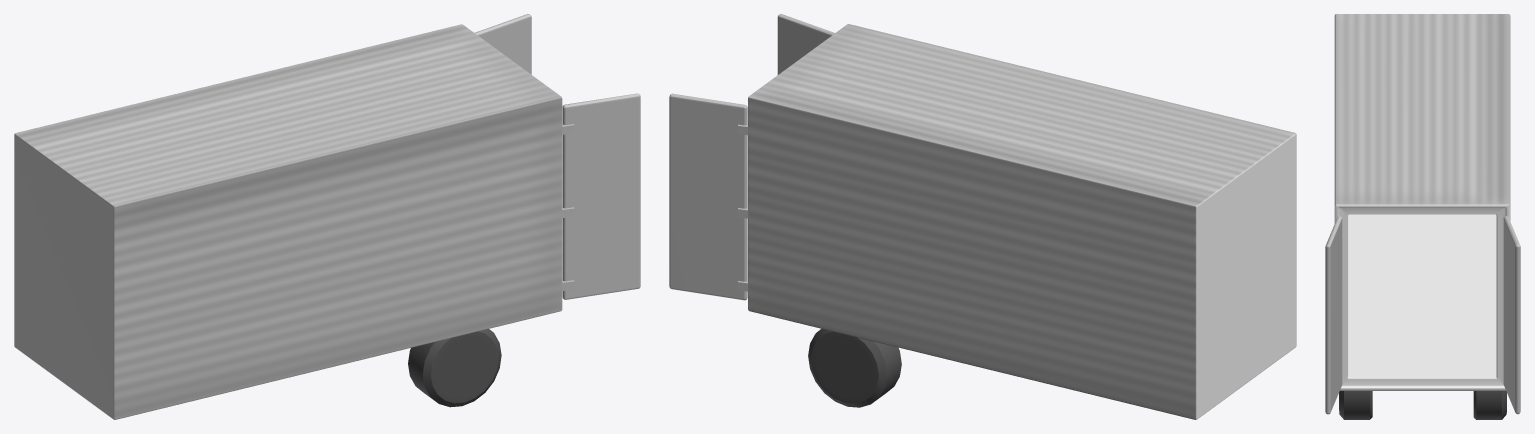
The model's file is truck.fbx.
3 views of the same model, side by side, from view 1: azimuth 30°, elevation 25°; view 2: azimuth 150°, elevation 25°; view 3: azimuth 270°, elevation 25° (orthographic). The views are drawn at different scales.
Visible parts, largest first — view 1: pCube2, polySurface10, pCylinder6, polySurface11; view 2: pCube2, polySurface11, pCylinder5, polySurface10; view 3: pCube2, polySurface10, polySurface11, pCylinder5, pCylinder6.
Part boxes in pixels (bbox=[...]): pCube2: bbox=[14, 24, 562, 419]; polySurface10: bbox=[562, 93, 640, 299]; pCylinder6: bbox=[408, 329, 501, 407]; polySurface11: bbox=[475, 14, 531, 74]; pCube2: bbox=[748, 24, 1296, 419]; polySurface11: bbox=[669, 93, 747, 300]; pCylinder5: bbox=[808, 329, 901, 407]; polySurface10: bbox=[777, 14, 834, 74]; pCube2: bbox=[1334, 14, 1510, 390]; polySurface10: bbox=[1325, 216, 1342, 414]; polySurface11: bbox=[1503, 216, 1520, 414]; pCylinder5: bbox=[1473, 391, 1506, 419]; pCylinder6: bbox=[1339, 391, 1372, 419].
Size of the model in its own units: 31.87 by 16.91 by 11.82.
